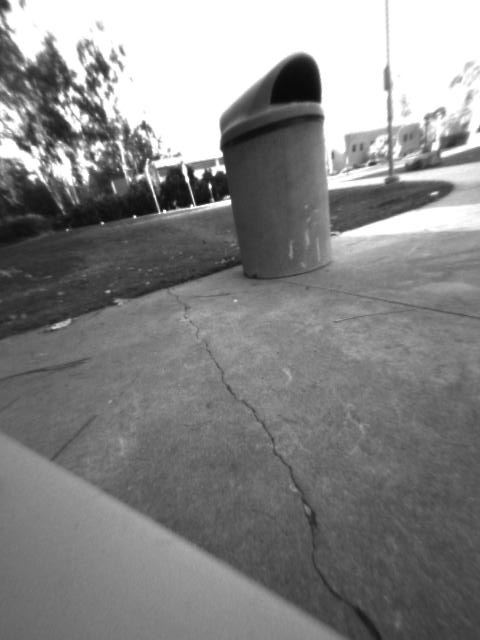trashcan: (217, 50, 342, 278)
